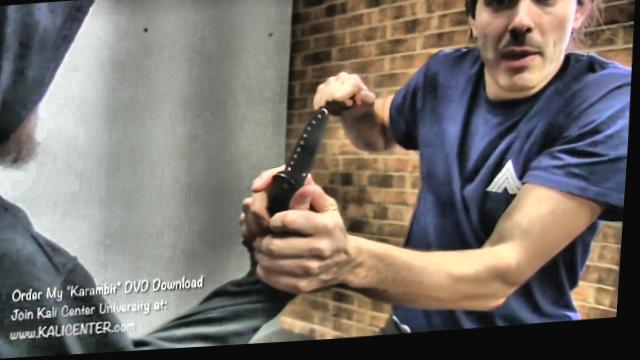knife: (234, 104, 338, 241)
